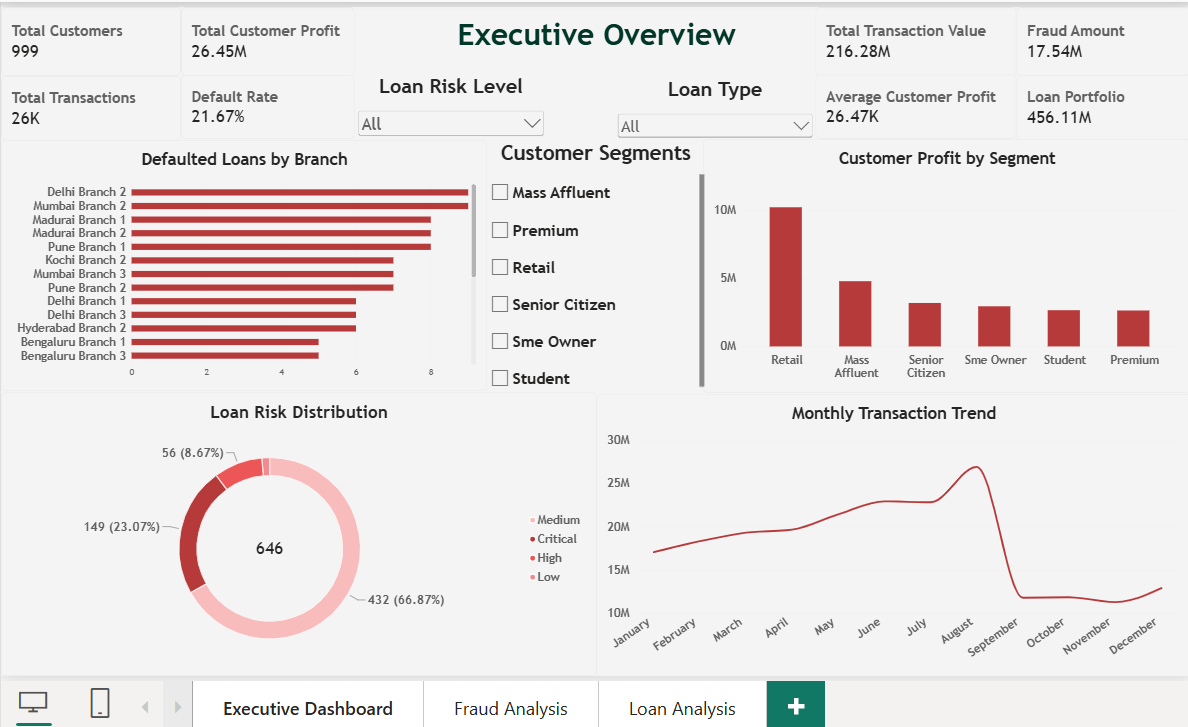

This screenshot's page, from the dashboard's own definition file:
{"tool":"powerbi","page":{"name":"Executive Dashboard ","canvas":[1920,1080],"ordinal":0},"visuals":[{"type":"cardVisual","fields":{"Data":["Cleaned Data.Total Customers"]},"box":[0,0,290.4,111.3],"z":0},{"type":"cardVisual","fields":{"Data":["Cleaned Data.Total Transactions"]},"box":[0,111.3,290.4,104.1],"z":1000},{"type":"cardVisual","fields":{"Data":["Cleaned Data.Total Transaction Value"]},"box":[1314.2,0,324.3,111.3],"z":2000},{"type":"cardVisual","fields":{"Data":["Cleaned Data.Loan Portfolio"]},"box":[1638.5,108.9,280.7,106.5],"z":3000},{"type":"cardVisual","fields":{"Data":["Cleaned Data.Default Rate"]},"box":[290.4,108.9,280.7,104.1],"z":4000},{"type":"cardVisual","fields":{"Data":["Cleaned Data.Fraud Amount"]},"box":[1638.5,0,280.7,111.3],"z":5000},{"type":"cardVisual","fields":{"Data":["Cleaned Data.Total Customer Profit"]},"box":[290.4,0,280.7,111.3],"z":6000},{"type":"cardVisual","fields":{"Data":["Cleaned Data.Average Customer Profit"]},"box":[1314.2,108.9,324.3,104.1],"z":7000},{"type":"donutChart","title":"Loan Risk Distribution","fields":{"Category":["LoanRisk.loan_risk_level"],"Y":["CountNonNull(LoanRisk.loan_id)"]},"box":[0,622,960.8,457.4],"z":8000},{"type":"clusteredColumnChart","title":"Customer Profit by Segment","fields":{"Category":["Customers.customer_segment"],"Y":["Cleaned Data.Total Customer Profit"]},"box":[0,215.4,706.7,409],"z":9000},{"type":"clusteredBarChart","title":"Defaulted Loans by Branch","fields":{"Category":["LoanRisk.branch_name"],"Y":["Cleaned Data.Defaulted Loans"]},"box":[1086.7,215.4,832.5,406.6],"z":10000},{"type":"lineChart","title":"Monthly Transaction Trend","fields":{"Y":["Cleaned Data.Total Transaction Value"],"Category":["Transactions.transaction_datetime.Variation.Date Hierarchy.Month"]},"box":[960.8,624.4,958.4,457.4],"z":11000},{"type":"slicer","title":"Customer Segments","fields":{"Values":["Customers.customer_segment"]},"box":[735.7,213,350.9,409],"z":12000},{"type":"slicer","title":"Loan Type","fields":{"Values":["LoanRisk.loan_type"]},"box":[989.9,113.7,324.3,101.6],"z":13000},{"type":"slicer","title":"Loan Risk Level","fields":{"Values":["LoanRisk.loan_risk_level"]},"box":[571.2,108.9,268.6,104.1],"z":14000},{"type":"textbox","box":[687.3,0,547,87.1],"z":15000}]}

Visuals, with their boxes on the page's 1920x1080 design canvas (x1, y1, x2, y2). These are canvas units, not pixel positions in the 1188x727 screenshot, which may show the page scaled, cropped or inside an application window:
cardVisual - Cleaned Data.Total Customers: [x1=0, y1=0, x2=290, y2=111]
cardVisual - Cleaned Data.Total Transactions: [x1=0, y1=111, x2=290, y2=215]
cardVisual - Cleaned Data.Total Transaction Value: [x1=1314, y1=0, x2=1638, y2=111]
cardVisual - Cleaned Data.Loan Portfolio: [x1=1638, y1=109, x2=1919, y2=215]
cardVisual - Cleaned Data.Default Rate: [x1=290, y1=109, x2=571, y2=213]
cardVisual - Cleaned Data.Fraud Amount: [x1=1638, y1=0, x2=1919, y2=111]
cardVisual - Cleaned Data.Total Customer Profit: [x1=290, y1=0, x2=571, y2=111]
cardVisual - Cleaned Data.Average Customer Profit: [x1=1314, y1=109, x2=1638, y2=213]
"Loan Risk Distribution" donutChart: [x1=0, y1=622, x2=961, y2=1079]
"Customer Profit by Segment" clusteredColumnChart: [x1=0, y1=215, x2=707, y2=624]
"Defaulted Loans by Branch" clusteredBarChart: [x1=1087, y1=215, x2=1919, y2=622]
"Monthly Transaction Trend" lineChart: [x1=961, y1=624, x2=1919, y2=1082]
"Customer Segments" slicer: [x1=736, y1=213, x2=1087, y2=622]
"Loan Type" slicer: [x1=990, y1=114, x2=1314, y2=215]
"Loan Risk Level" slicer: [x1=571, y1=109, x2=840, y2=213]
textbox: [x1=687, y1=0, x2=1234, y2=87]
